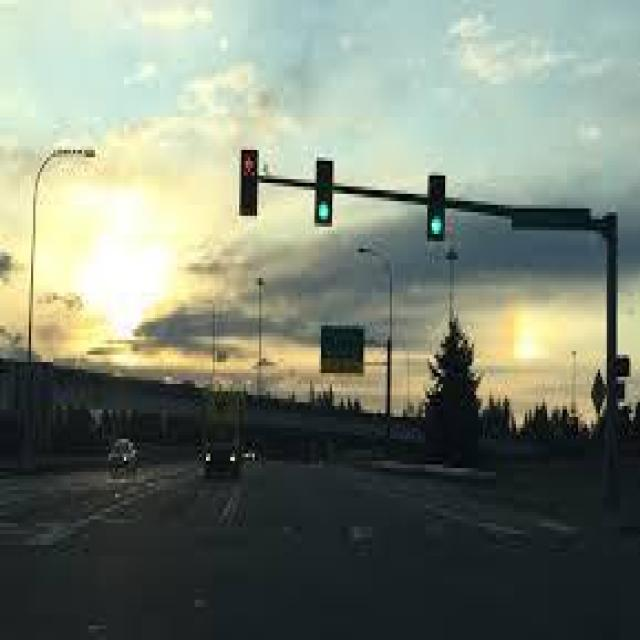other: (63, 180, 183, 347), (494, 286, 562, 366)
